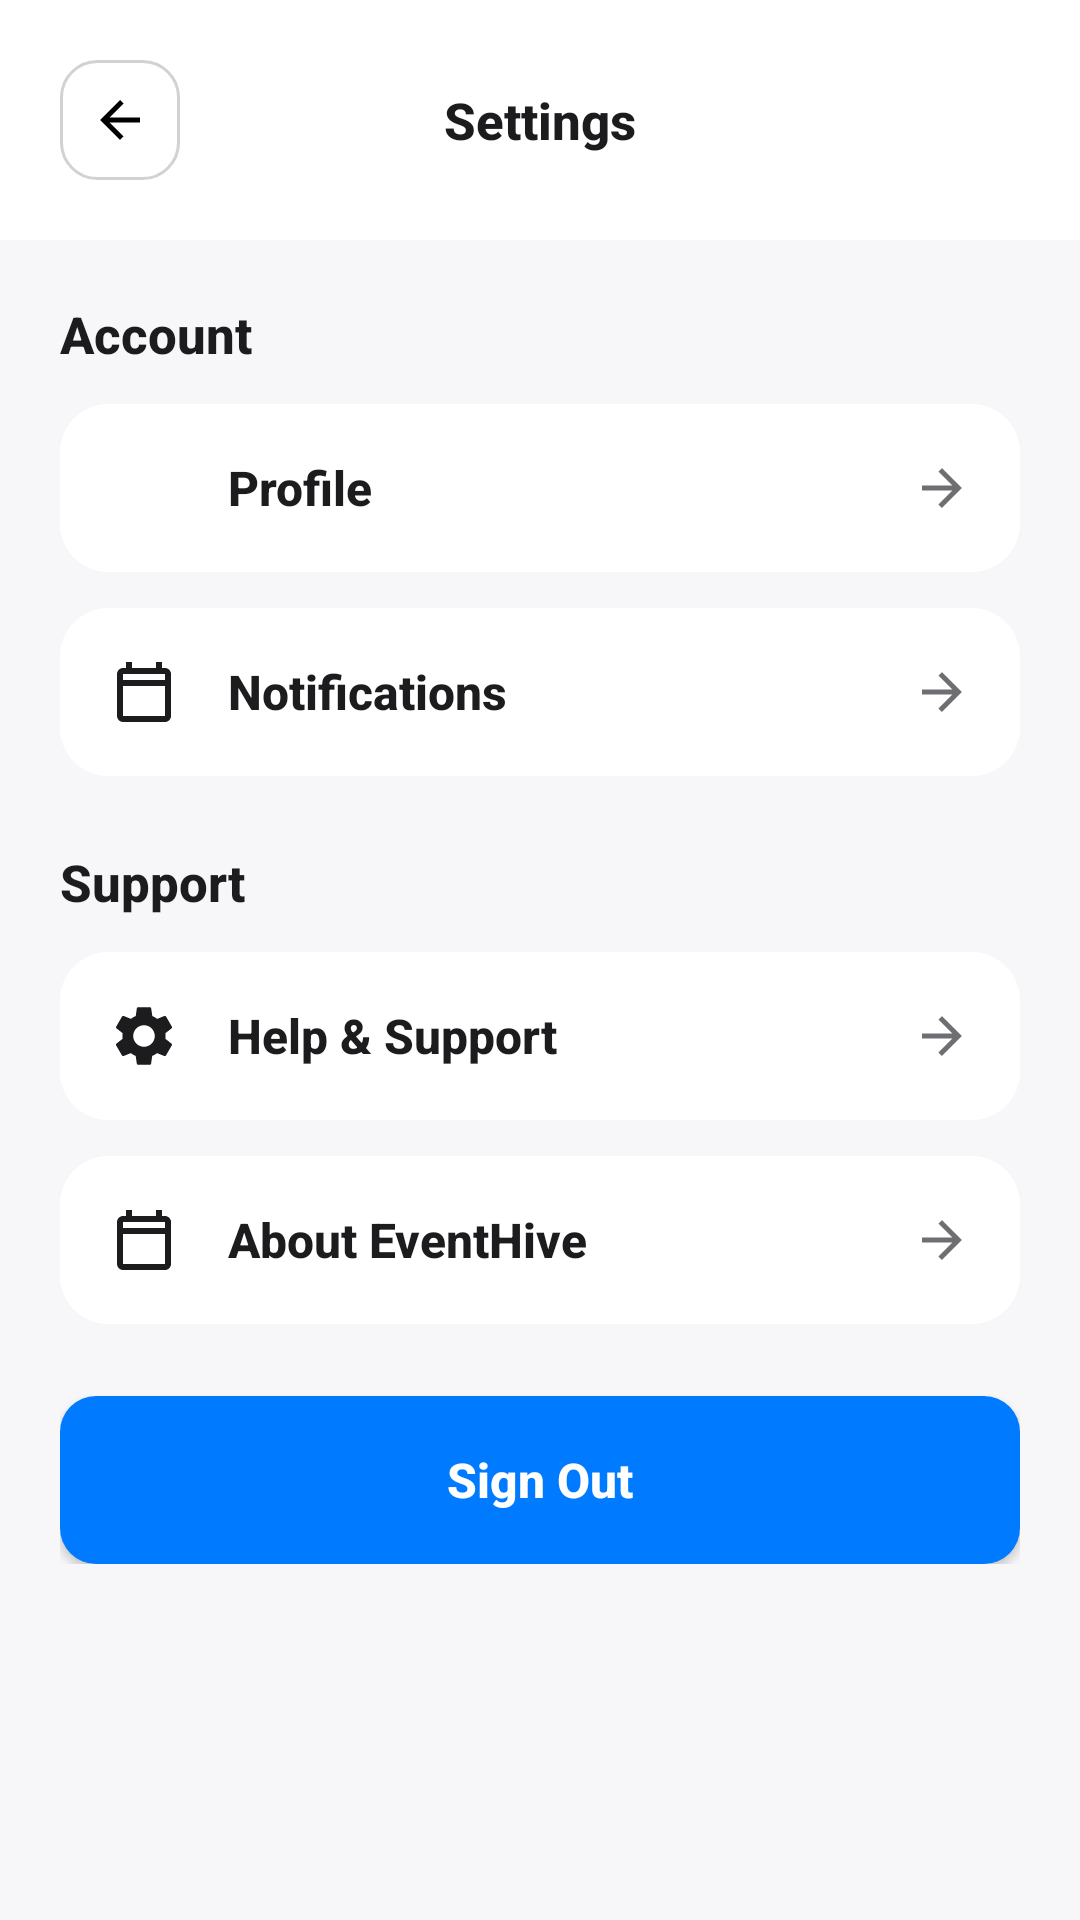

Screen size 1080px x 1920px. Icon name, then its center in pixels as point (x, y):
calendar: point (144, 692), point (144, 1240)
settings: point (144, 1036)
